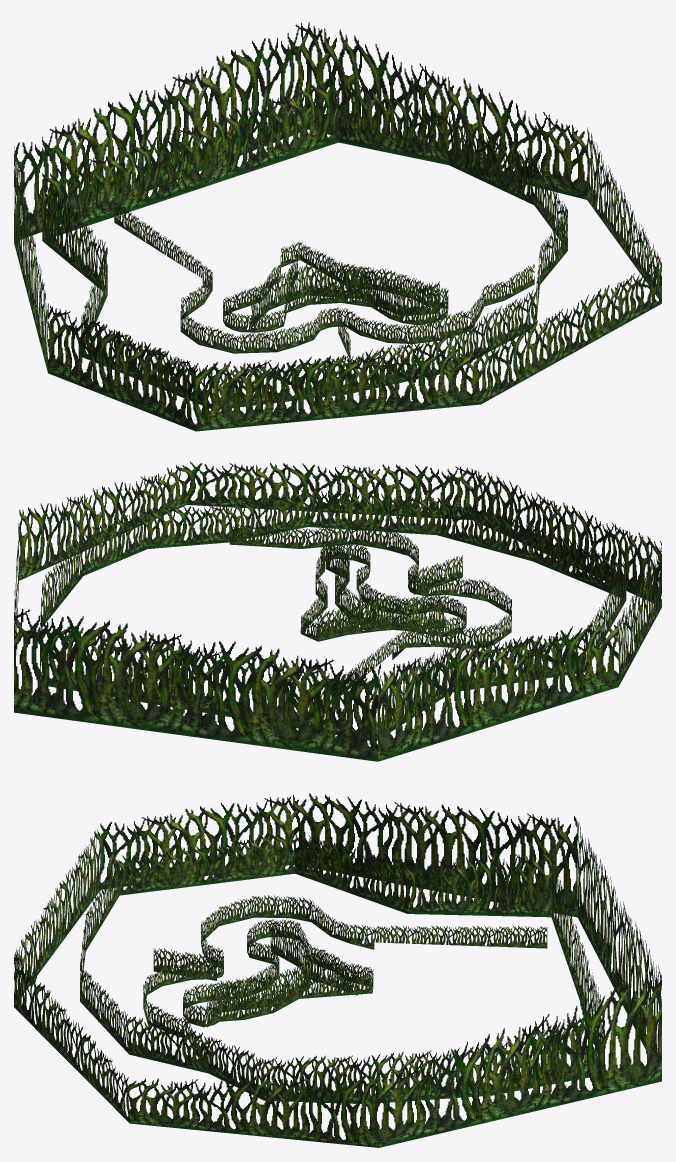
File: trees.obj
3 views of the same model, one above another, from view 1: azimuth 30°, elevation 25°; view 2: azimuth 150°, elevation 25°; view 3: azimuth 270°, elevation 25° (orthographic). The views are drawn at different scales.
Visible parts, largest first — view 1: mansion_cource.000_mansion_cource.008, mansion_cource.002_mansion_cource.009, mansion_cource.003_mansion_cource.010, mansion_cource.006_mansion_cource.012, mansion_cource.005_mansion_cource.011; view 2: mansion_cource.000_mansion_cource.008, mansion_cource.002_mansion_cource.009, mansion_cource.003_mansion_cource.010, mansion_cource.006_mansion_cource.012, mansion_cource.005_mansion_cource.011; view 3: mansion_cource.000_mansion_cource.008, mansion_cource.002_mansion_cource.009, mansion_cource.003_mansion_cource.010, mansion_cource.006_mansion_cource.012, mansion_cource.005_mansion_cource.011.
Part boxes in pixels (left/top/right/bottom): mansion_cource.000_mansion_cource.008: left=14, top=22, right=661, bottom=431; mansion_cource.002_mansion_cource.009: left=42, top=77, right=567, bottom=409; mansion_cource.003_mansion_cource.010: left=114, top=202, right=534, bottom=360; mansion_cource.006_mansion_cource.012: left=223, top=241, right=448, bottom=332; mansion_cource.005_mansion_cource.011: left=251, top=251, right=439, bottom=326; mansion_cource.000_mansion_cource.008: left=14, top=461, right=661, bottom=761; mansion_cource.002_mansion_cource.009: left=40, top=489, right=626, bottom=740; mansion_cource.003_mansion_cource.010: left=229, top=522, right=511, bottom=704; mansion_cource.006_mansion_cource.012: left=300, top=540, right=466, bottom=641; mansion_cource.005_mansion_cource.011: left=317, top=538, right=445, bottom=636; mansion_cource.000_mansion_cource.008: left=14, top=793, right=661, bottom=1147; mansion_cource.002_mansion_cource.009: left=80, top=831, right=604, bottom=1103; mansion_cource.003_mansion_cource.010: left=143, top=895, right=547, bottom=1065; mansion_cource.006_mansion_cource.012: left=183, top=919, right=373, bottom=1027; mansion_cource.005_mansion_cource.011: left=207, top=920, right=357, bottom=1027.
Bounding box in the file's own units: 619 × 117 × 598.
